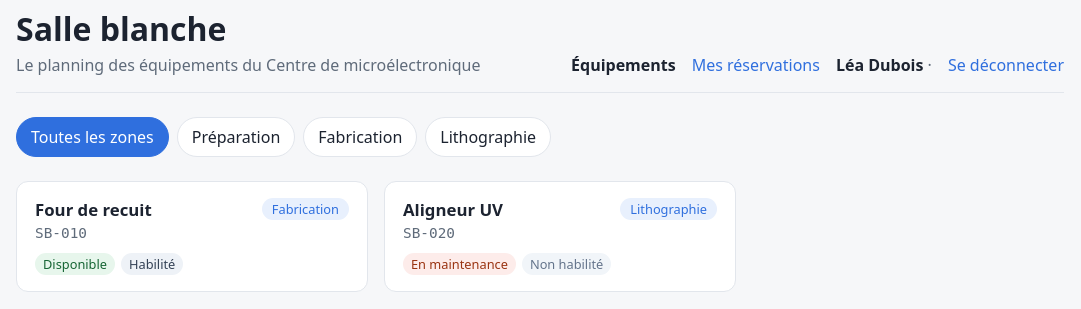
Test: EquipmentsPage › envoie le token, et filtre par zone côté serveur
Expected: the link "Four de recuit" is shown, [35,198,152,221]
Click the button "Lithographie" at x=488, y=137, box [425,117,551,157]
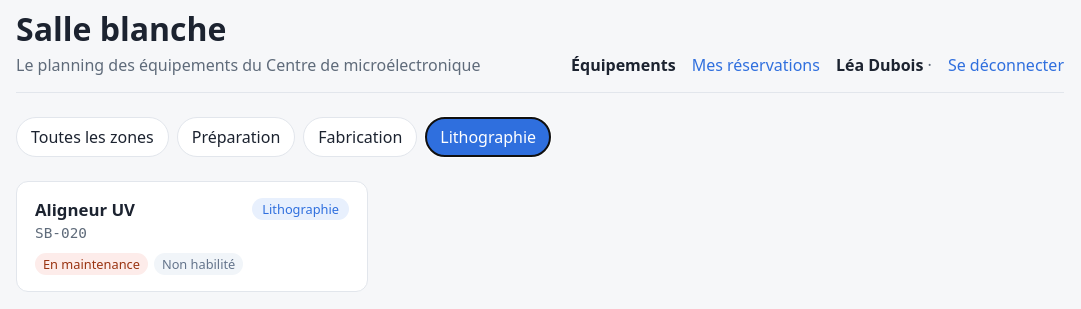
Expected: the link "Aligneur UV" is shown, [35,198,135,221]
Result: the link "Four de recuit" is gone
